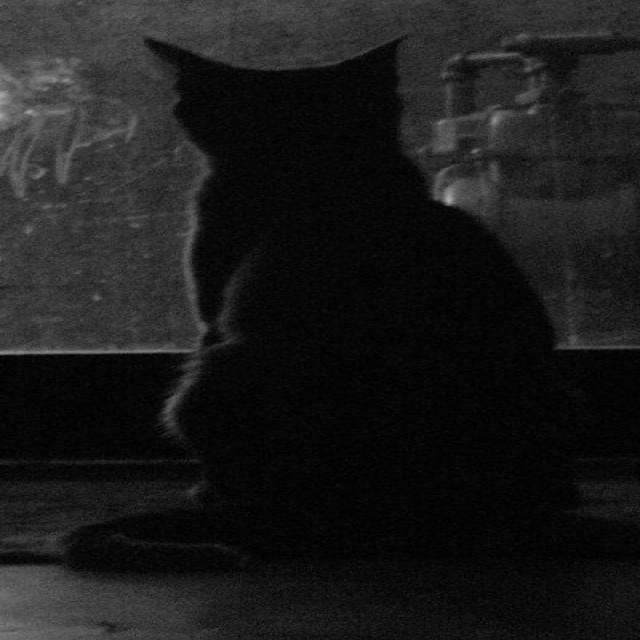Cat: (72, 2, 640, 601)
